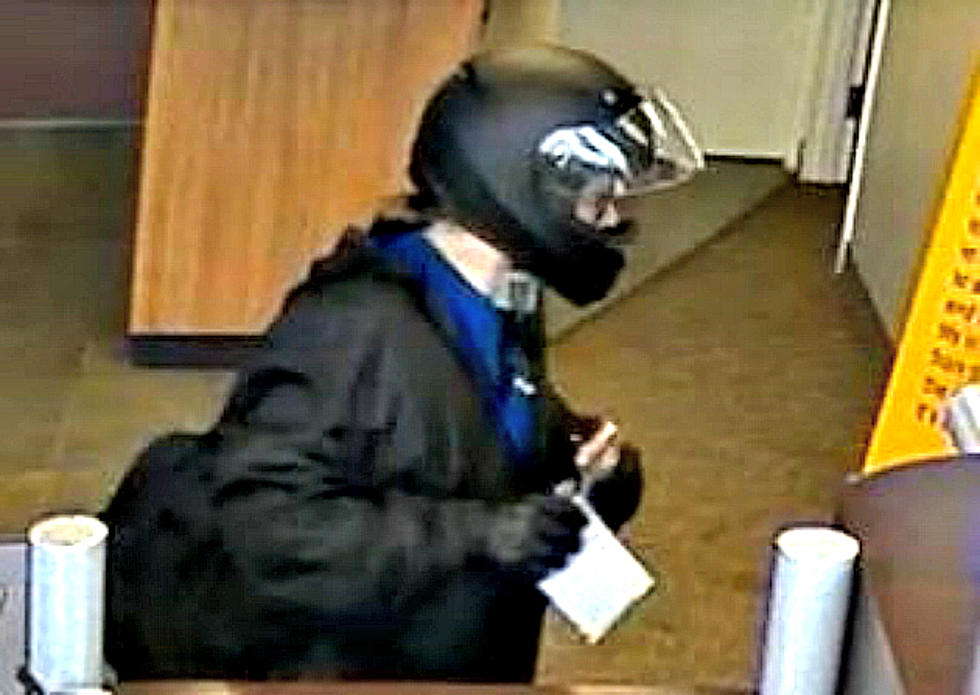helmet: (375, 11, 708, 313)
